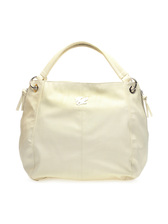bag: (14, 40, 154, 184)
